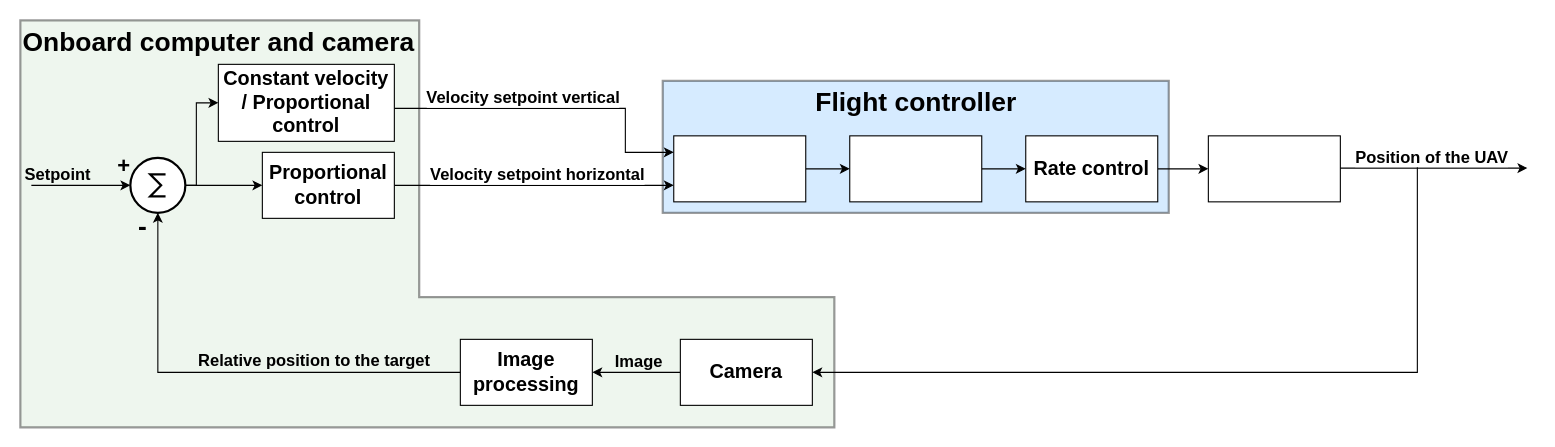
This 1555x447 diagram has some shape labels left out. The shapes that lost their labels are listed below. From the top down, each one's centre as x and y in pixels, then its label:
At point 739,168: "Velocity control".
At point 915,168: "Attitude control".
At point 1273,168: "UAV".
